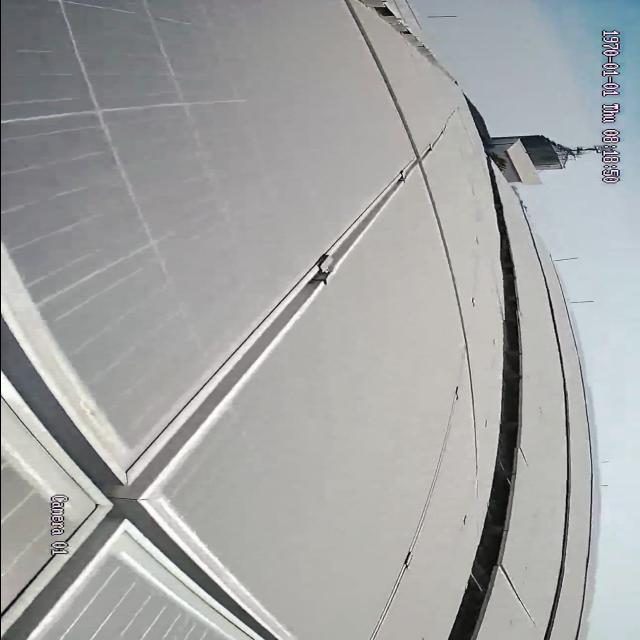interior panel: (1, 3, 467, 640)
outher panel: (441, 174, 521, 639)
